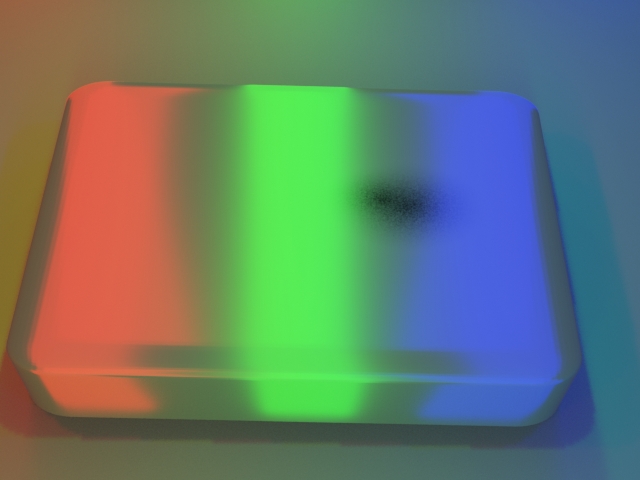stain: (291, 132, 538, 269)
